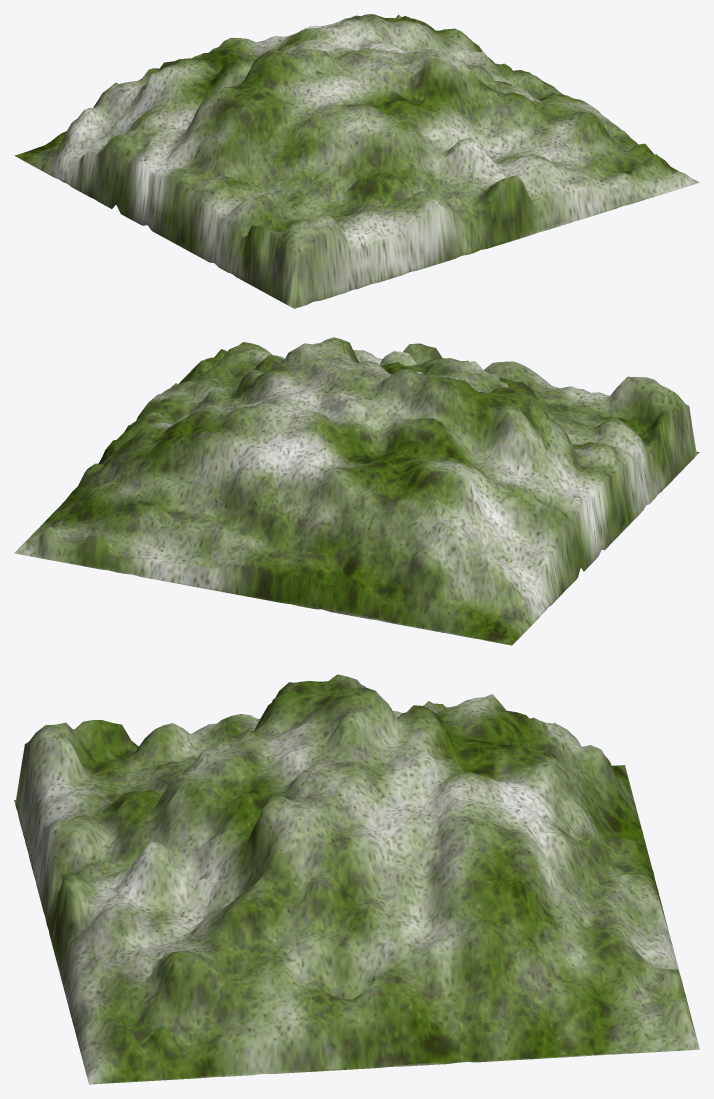
The model's file is majestic mountain.obj.
3 renders of one model, top to bottom at view 1: azimuth 30°, elevation 25°; view 2: azimuth 150°, elevation 25°; view 3: azimuth 270°, elevation 25°, orthographic. The views are drawn at different scales.
Visible parts, largest first — view 1: Terrain_1; view 2: Terrain_1; view 3: Terrain_1.
Boxes of the visible parts, x1,y1,x2,y2 form: Terrain_1: (14,14,699,308); Terrain_1: (14,337,699,645); Terrain_1: (14,674,699,1084).
Size of the model in its own units: 24.75 by 6.51 by 22.45.
